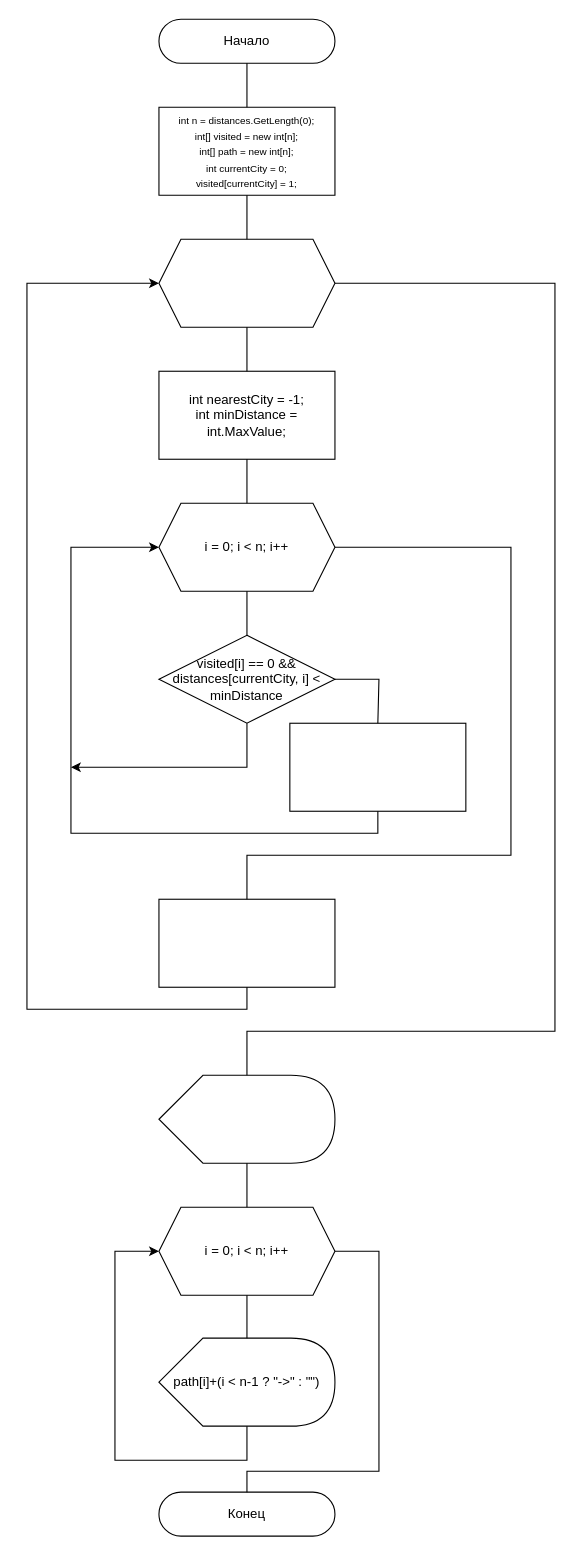
Image size: 575x1555. Some labels were removed from this diagram. The shapes that lost their labels are listed below. From the top down, each one's centre as x and y in pixels, then its label:
At (246,282): "step = 1; step < n; step++".
At (377,766): "minDistance = distances[currentCity, i]; nearestCity = i;".
At (246,942): "visited[nearestCity] = 1; path[step] = nearestCity; currentCity = nearestCity;".
At (246,1118): "Приближенный маршрут:".
